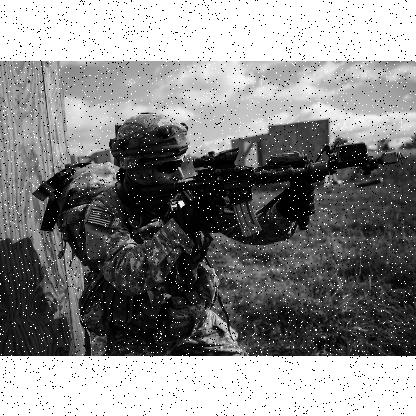gun: (126, 146, 402, 235)
